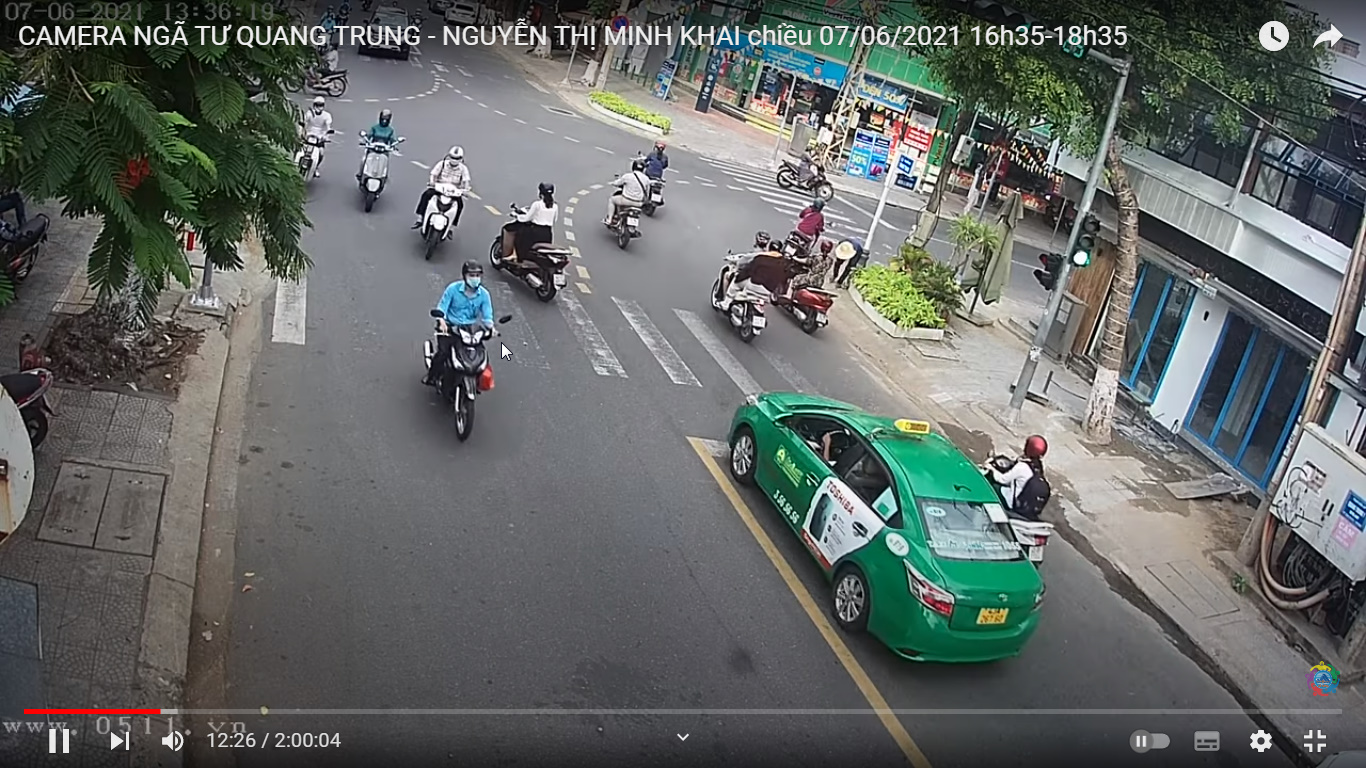car: (720, 385, 1049, 671)
